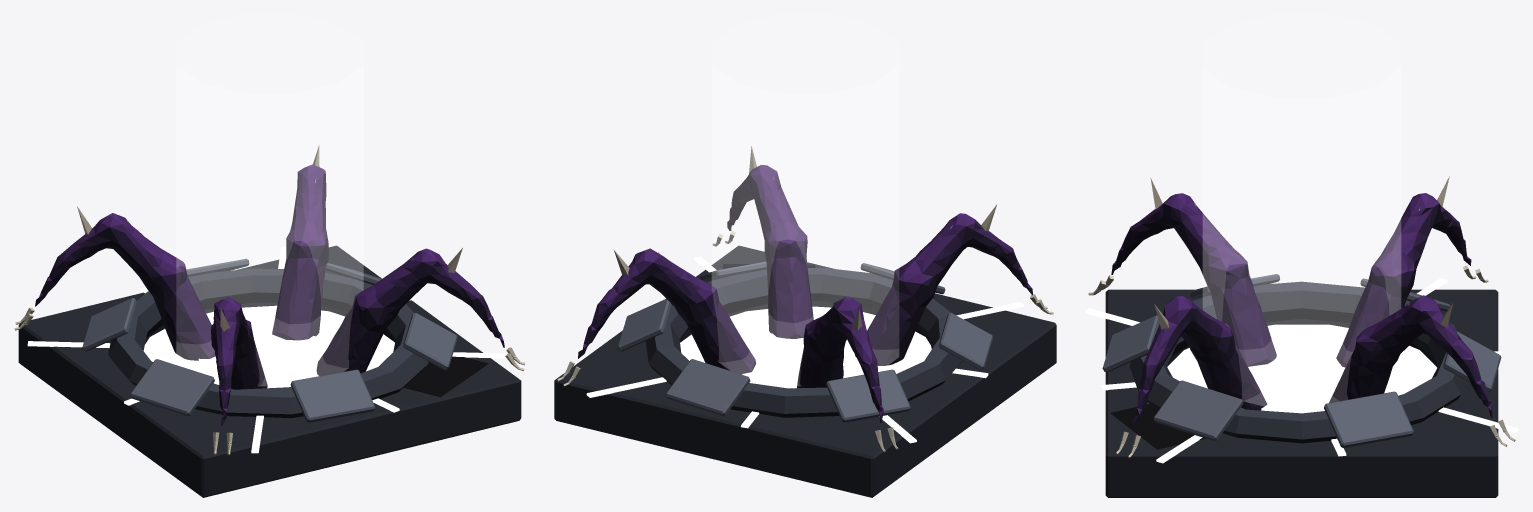
Rendered from SpawnHole.glb.
3 views of the same model, side by side, from view 1: azimuth 30°, elevation 25°; view 2: azimuth 150°, elevation 25°; view 3: azimuth 270°, elevation 25° (orthographic). The views are drawn at different scales.
Parts seen in each view (by area): view 1: Column_Glow, Body, Roots, Inner_Glow; view 2: Body, Column_Glow, Roots, Inner_Glow; view 3: Column_Glow, Body, Roots, Inner_Glow.
Boxes of the visible parts, <box> form: Column_Glow: <box>176,14,363,385</box>; Body: <box>18,245,521,497</box>; Roots: <box>14,145,525,455</box>; Inner_Glow: <box>27,246,507,453</box>; Body: <box>554,245,1056,497</box>; Column_Glow: <box>712,14,898,385</box>; Roots: <box>557,146,1053,452</box>; Inner_Glow: <box>586,256,1024,443</box>; Column_Glow: <box>1203,14,1400,408</box>; Body: <box>1102,274,1501,497</box>; Roots: <box>1088,176,1515,457</box>; Inner_Glow: <box>1085,278,1518,463</box>.
Size of the model in its own units: 8.84 by 8.1 by 8.84.
